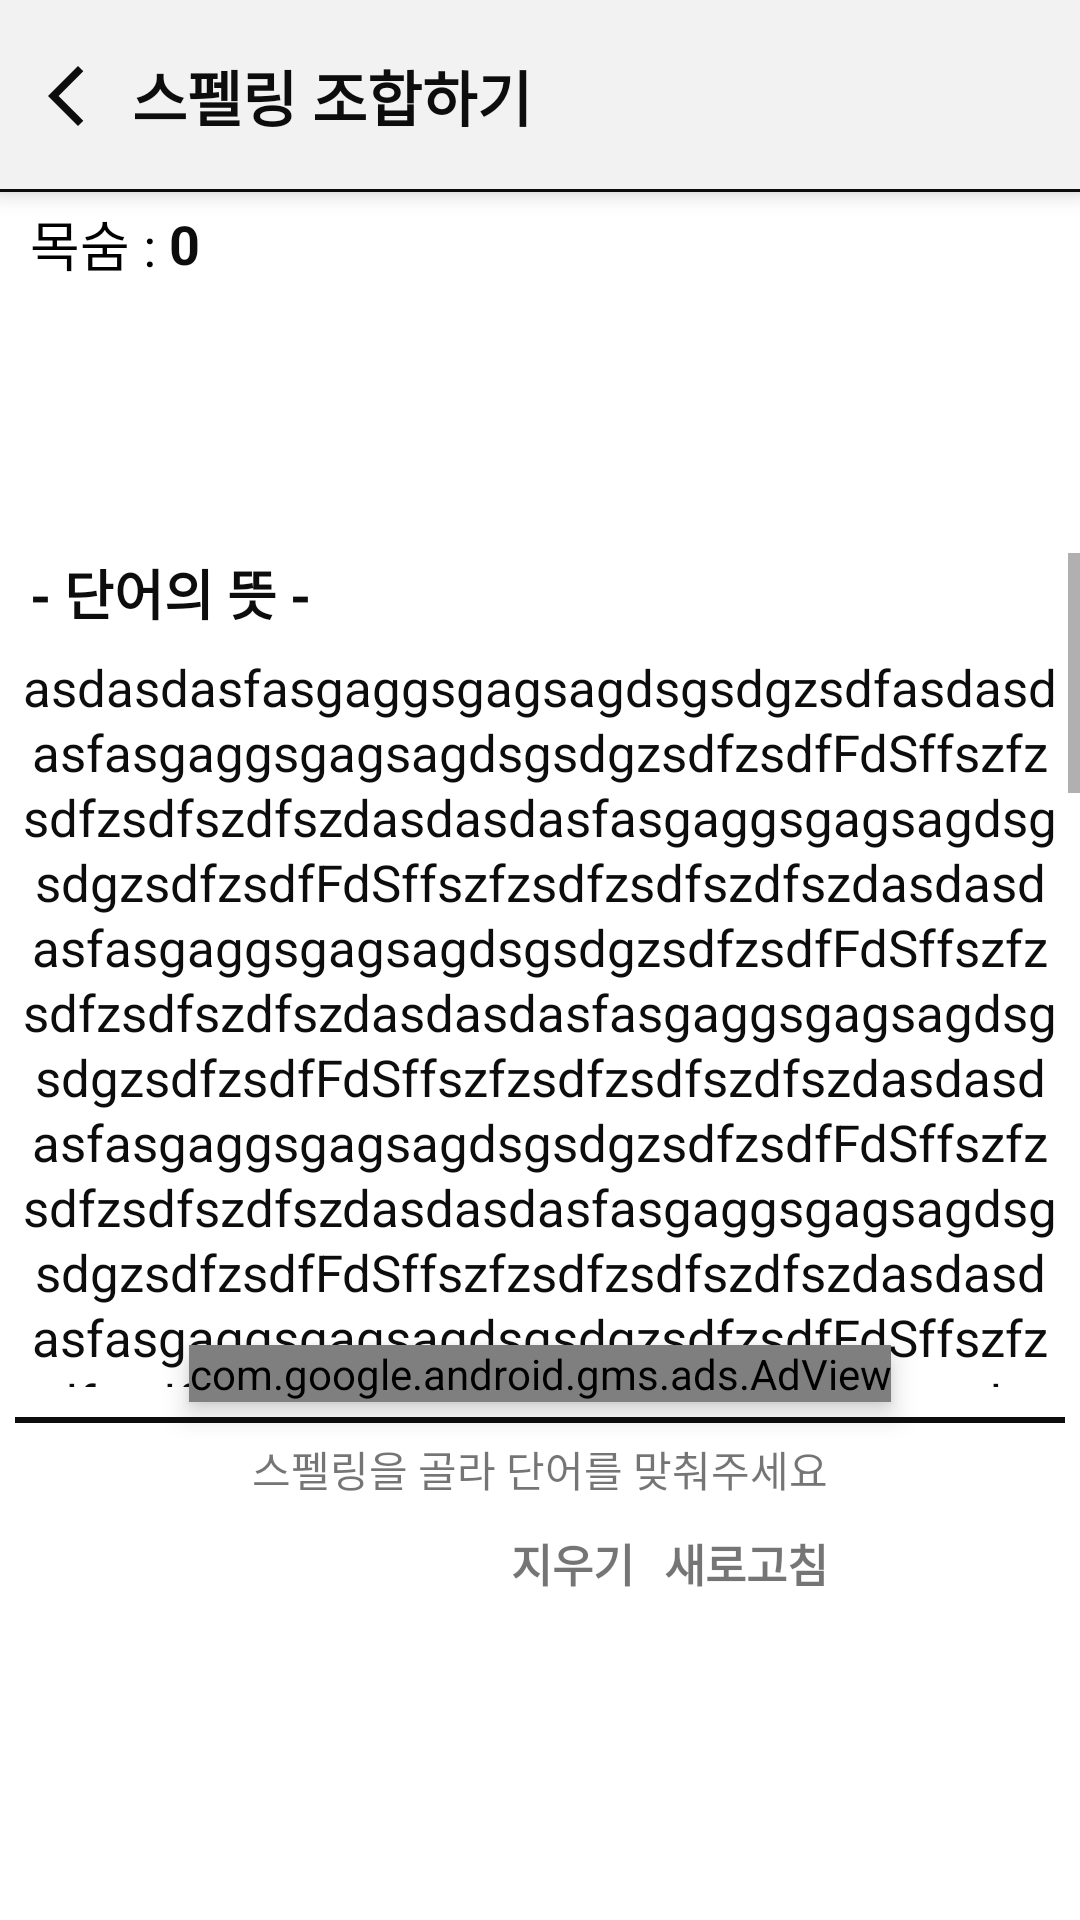

Point at icon controls on the screen. Image size 1080 x 1920, points as (x,y).
arrow back: (65,96)
